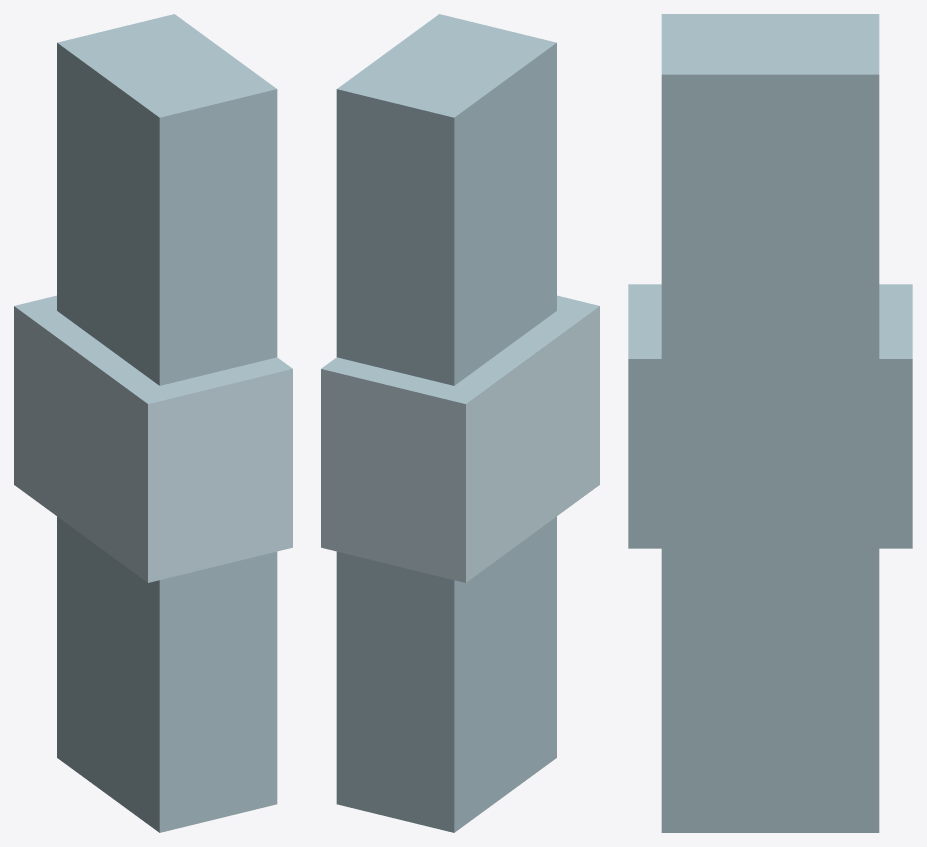
3 renders of one model, left to right at view 1: azimuth 30°, elevation 25°; view 2: azimuth 150°, elevation 25°; view 3: azimuth 270°, elevation 25°, orthographic. The views are drawn at different scales.
Parts seen in each view (by area): view 1: chimney; view 2: chimney; view 3: chimney.
Boxes of the visible parts, box(x1,y1,x2,y2) form: chimney: box(14, 14, 292, 832); chimney: box(321, 14, 599, 832); chimney: box(628, 14, 912, 832).
Size of the model in its own units: 0.2119 by 1 by 0.34.
